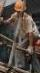hard-hat: (14, 0, 26, 12)
